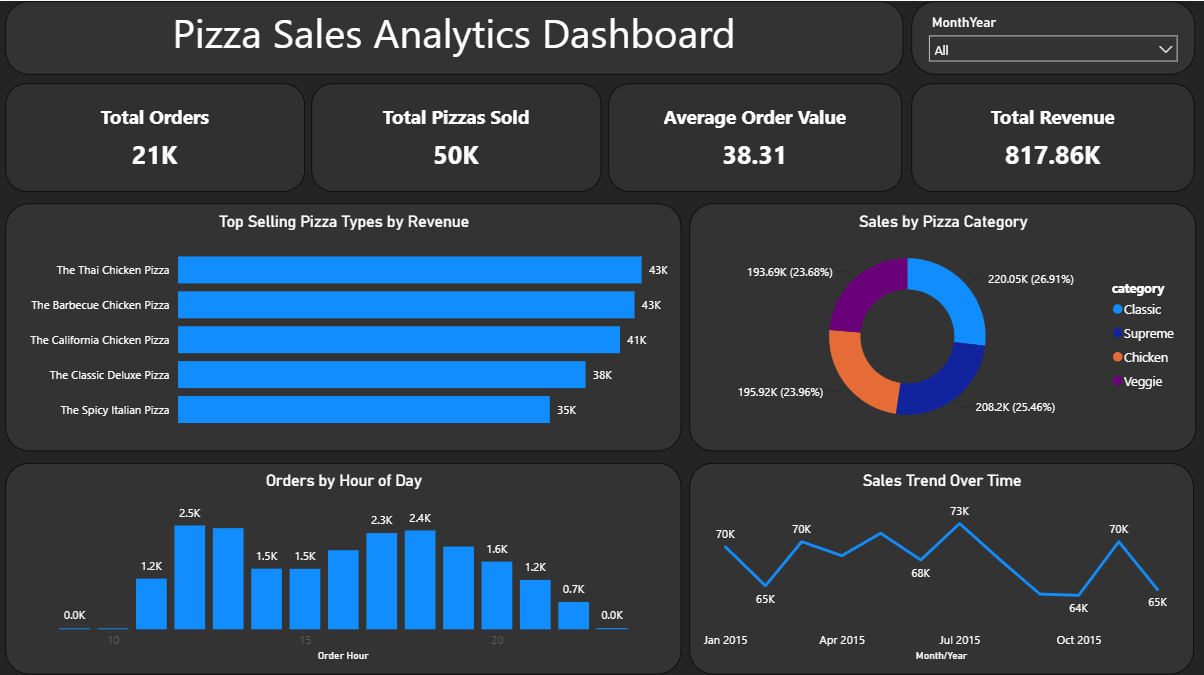

What the dashboard file says about the page in this screenshot:
{"tool":"powerbi","page":{"name":"Page 1","canvas":[1280,720],"ordinal":0},"visuals":[{"type":"cardVisual","fields":{"Data":["order_details.Total Orders"]},"box":[7.2,87.6,317.3,114.7],"z":0},{"type":"cardVisual","fields":{"Data":["order_details.Total Pizzas Sold"]},"box":[331.8,87.6,307.5,114.7],"z":1000},{"type":"cardVisual","fields":{"Data":["order_details.TotalRevenue"]},"box":[968.7,87.6,300.2,114.7],"z":2000},{"type":"cardVisual","fields":{"Data":["order_details.Average Order Value"]},"box":[647.9,87.1,311.4,114.8],"z":3000},{"type":"lineChart","title":"Sales Trend Over Time","fields":{"Y":["order_details.TotalRevenue"],"Category":["orders.date.Variation.Date Hierarchy.Year","orders.date.Variation.Date Hierarchy.Month"]},"box":[733.7,489.6,534.4,224.3],"z":4000},{"type":"clusteredBarChart","title":"Top Selling Pizza Types by Revenue","fields":{"Category":["pizza_types.name"],"Y":["order_details.TotalRevenue"]},"box":[7.9,215.1,716.5,262.6],"z":5000},{"type":"donutChart","title":"Sales by Pizza Category","fields":{"Y":["order_details.TotalRevenue"],"Category":["pizza_types.category"]},"box":[733.7,215.1,537.1,262.6],"z":6000},{"type":"clusteredColumnChart","title":"Orders by Hour of Day","fields":{"Category":["orders.Order Hour"],"Y":["order_details.Total Orders"]},"box":[7.9,489.6,716.5,224.3],"z":7000},{"type":"textbox","box":[7.5,0,952.2,78.2],"z":8000},{"type":"slicer","title":"Filter Dashboard by Month Year ","fields":{"Values":["orders.MonthYear"]},"box":[968,0,300.5,78],"z":9000}]}

Visuals, with their boxes in screenshot pixels (x1, y1, x2, y2), scaled from the page's 1280x720 canvas onto the 1204x675 screenshot:
cardVisual - order_details.Total Orders: region(7, 82, 305, 190)
cardVisual - order_details.Total Pizzas Sold: region(312, 82, 601, 190)
cardVisual - order_details.TotalRevenue: region(911, 82, 1194, 190)
cardVisual - order_details.Average Order Value: region(609, 82, 902, 189)
"Sales Trend Over Time" lineChart: region(690, 459, 1193, 669)
"Top Selling Pizza Types by Revenue" clusteredBarChart: region(7, 202, 681, 448)
"Sales by Pizza Category" donutChart: region(690, 202, 1195, 448)
"Orders by Hour of Day" clusteredColumnChart: region(7, 459, 681, 669)
textbox: region(7, 0, 903, 73)
"Filter Dashboard by Month Year " slicer: region(911, 0, 1193, 73)
